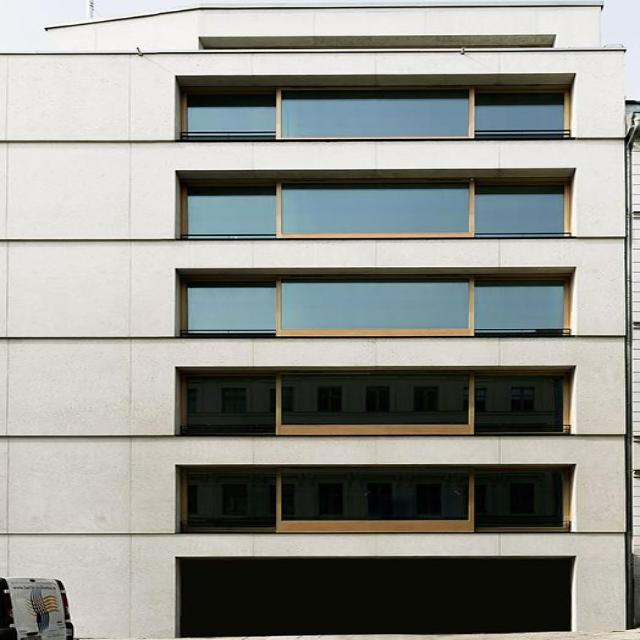wall: (0, 0, 634, 639)
windows: (185, 566, 572, 634), (175, 275, 562, 334), (186, 373, 572, 432), (184, 182, 573, 240), (185, 80, 571, 138), (182, 476, 567, 534)
